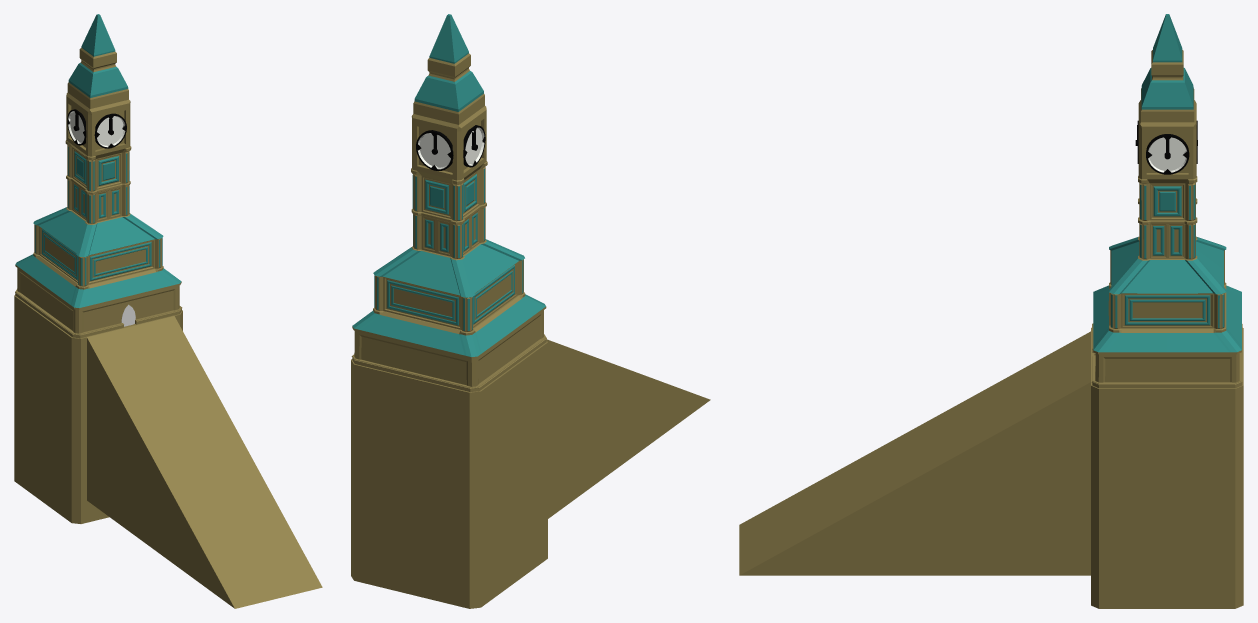
File: Tower.glb
3 views of the same model, side by side, from view 1: azimuth 30°, elevation 25°; view 2: azimuth 150°, elevation 25°; view 3: azimuth 270°, elevation 25° (orthographic). The views are drawn at different scales.
Visible parts, largest first — view 1: Cube.003, Tower, Cube.001, Clock; view 2: Cube.001, Tower, Cube.003, Clock; view 3: Cube.003, Cube.001, Tower, Clock.
Part boxes in pixels (<box>): Cube.003: <box>86,315,322,608</box>; Tower: <box>15,14,181,333</box>; Cube.001: <box>14,289,182,523</box>; Clock: <box>67,109,126,148</box>; Cube.001: <box>351,334,547,608</box>; Tower: <box>352,14,546,386</box>; Cube.003: <box>546,339,710,518</box>; Clock: <box>416,125,485,170</box>; Cube.003: <box>739,331,1094,575</box>; Cube.001: <box>1091,323,1243,608</box>; Tower: <box>1093,14,1241,382</box>; Clock: <box>1137,120,1197,174</box>.
Bounding box in the file's own units: 90.11 × 366 × 298.
